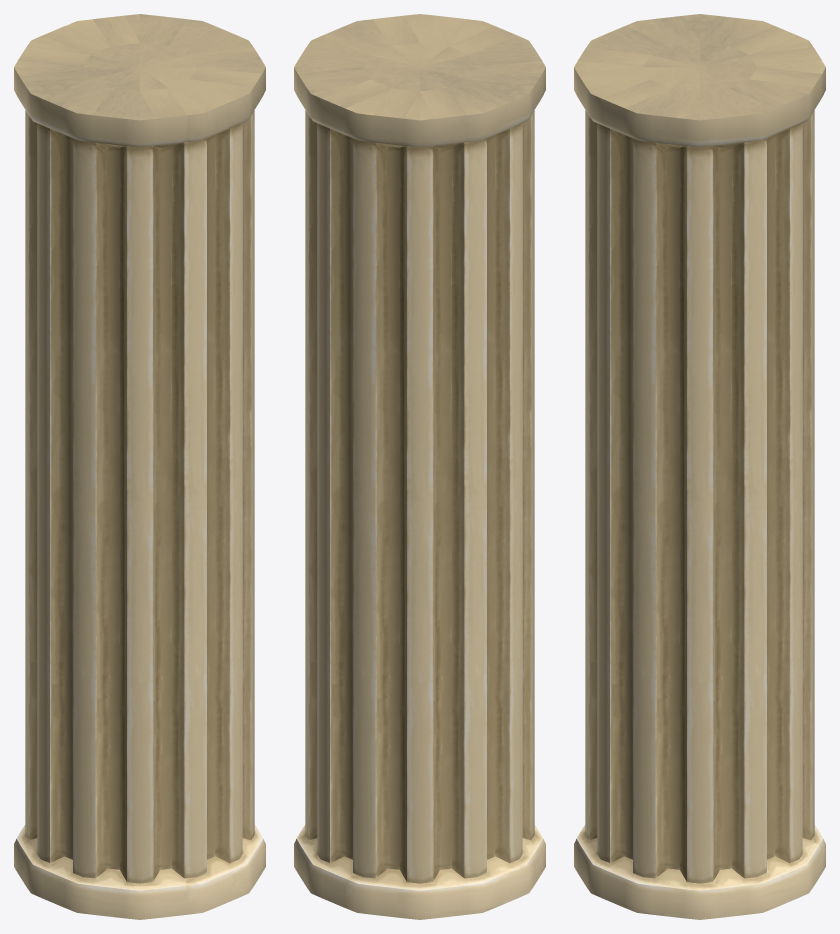
The model's file is menu_pillar.fbx.
3 renders of one model, left to right at view 1: azimuth 30°, elevation 25°; view 2: azimuth 150°, elevation 25°; view 3: azimuth 270°, elevation 25°, orthographic.
Parts seen in each view (by area): view 1: Cylinder007; view 2: Cylinder007; view 3: Cylinder007.
Boxes of the visible parts, bbox=[...] form: Cylinder007: bbox=[14, 14, 265, 919]; Cylinder007: bbox=[294, 14, 545, 919]; Cylinder007: bbox=[574, 14, 825, 919].
Bounding box in the file's own units: 8.78 × 30.76 × 8.78.
1 material, 1 textured.
